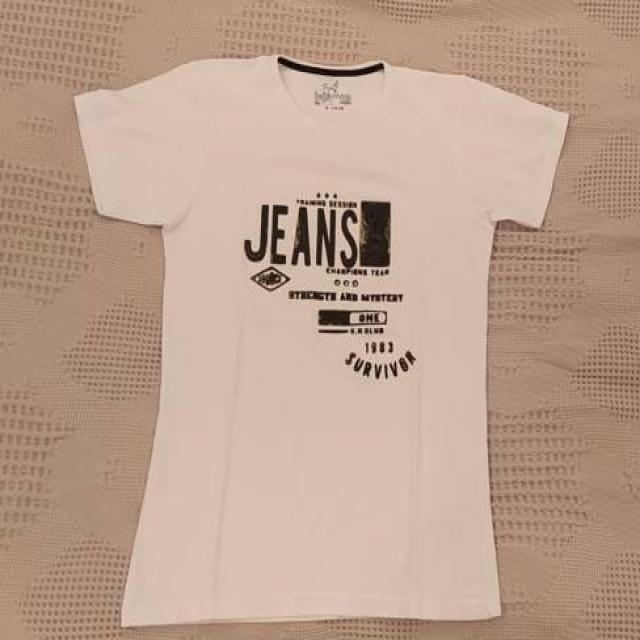shirt: (76, 55, 568, 628)
